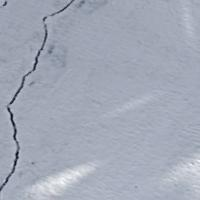crack: (0, 0, 79, 199)
